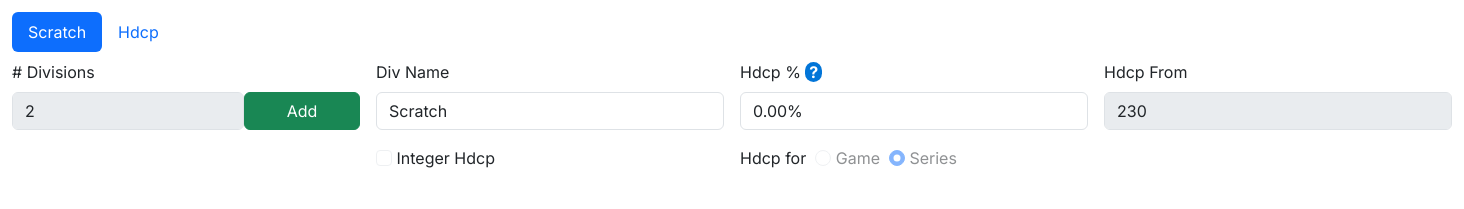
Test: OneToNDivs - Component › render the component › render the 2nd division › render the delete button
Click the tab "Hdcp": click(138, 32) [102,12,175,52]
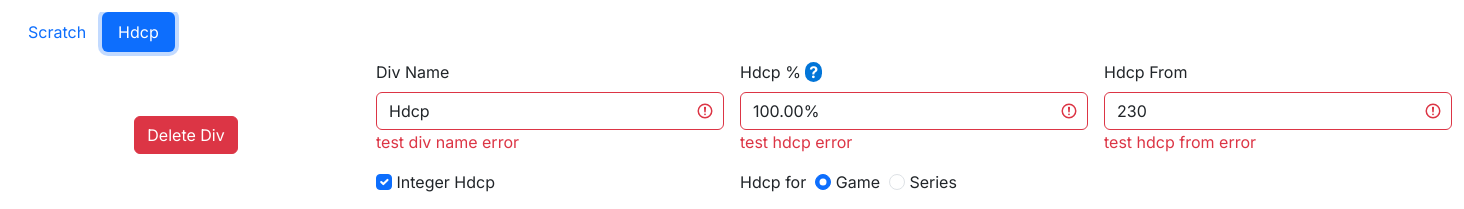
Check: the button "Delete Div" is shown, box [134,116,238,154]
